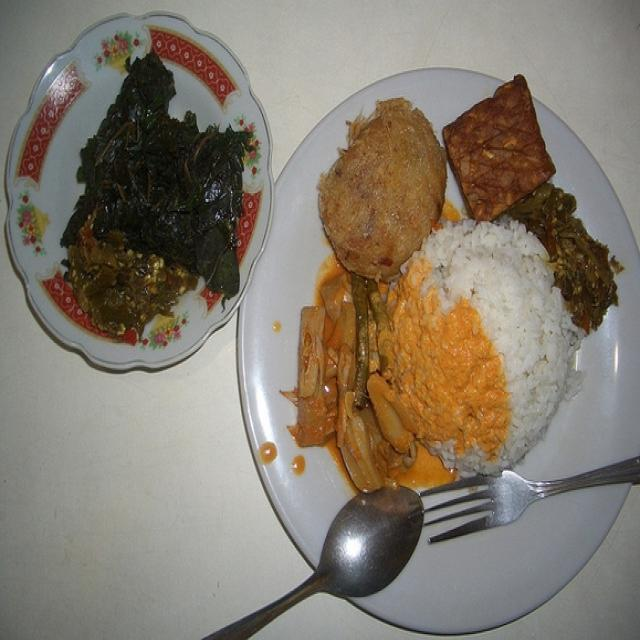米饭主食: (13, 14, 626, 626)
